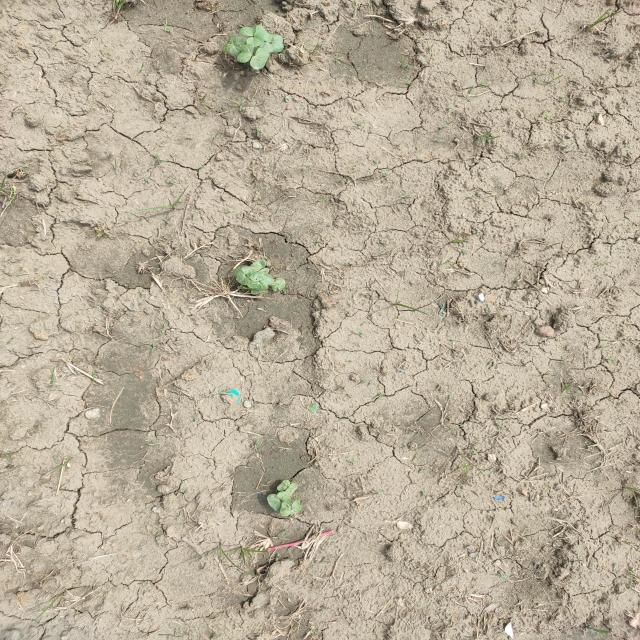seedling_s2: (259, 32, 284, 53), (250, 48, 270, 70), (247, 29, 268, 47), (230, 37, 247, 57), (249, 272, 274, 285), (237, 44, 253, 63), (267, 494, 282, 512), (239, 25, 263, 36), (222, 35, 237, 52), (234, 268, 249, 285), (247, 280, 268, 291), (280, 500, 292, 517), (241, 266, 256, 279), (250, 260, 266, 272), (289, 500, 301, 515), (285, 483, 297, 496), (275, 278, 286, 291), (277, 480, 290, 491), (277, 491, 290, 502), (258, 268, 269, 276), (270, 281, 278, 291)
